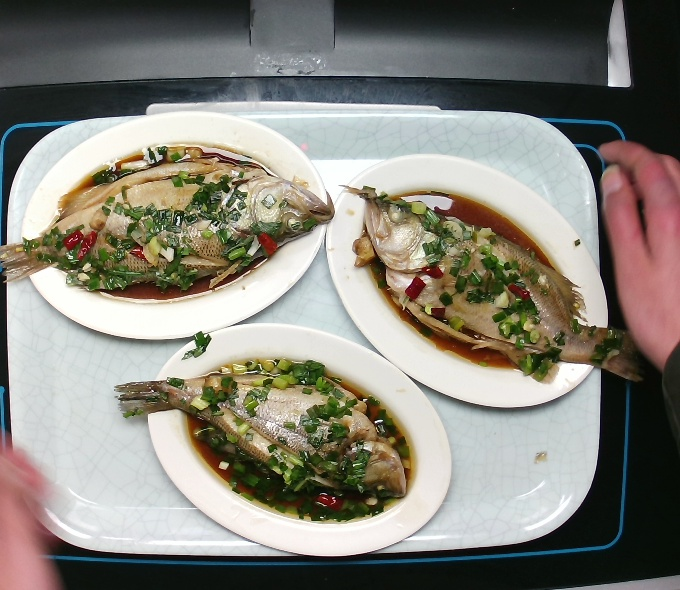wcq-LuYu: (345, 173, 612, 372), (1, 142, 335, 297), (108, 344, 409, 506)
